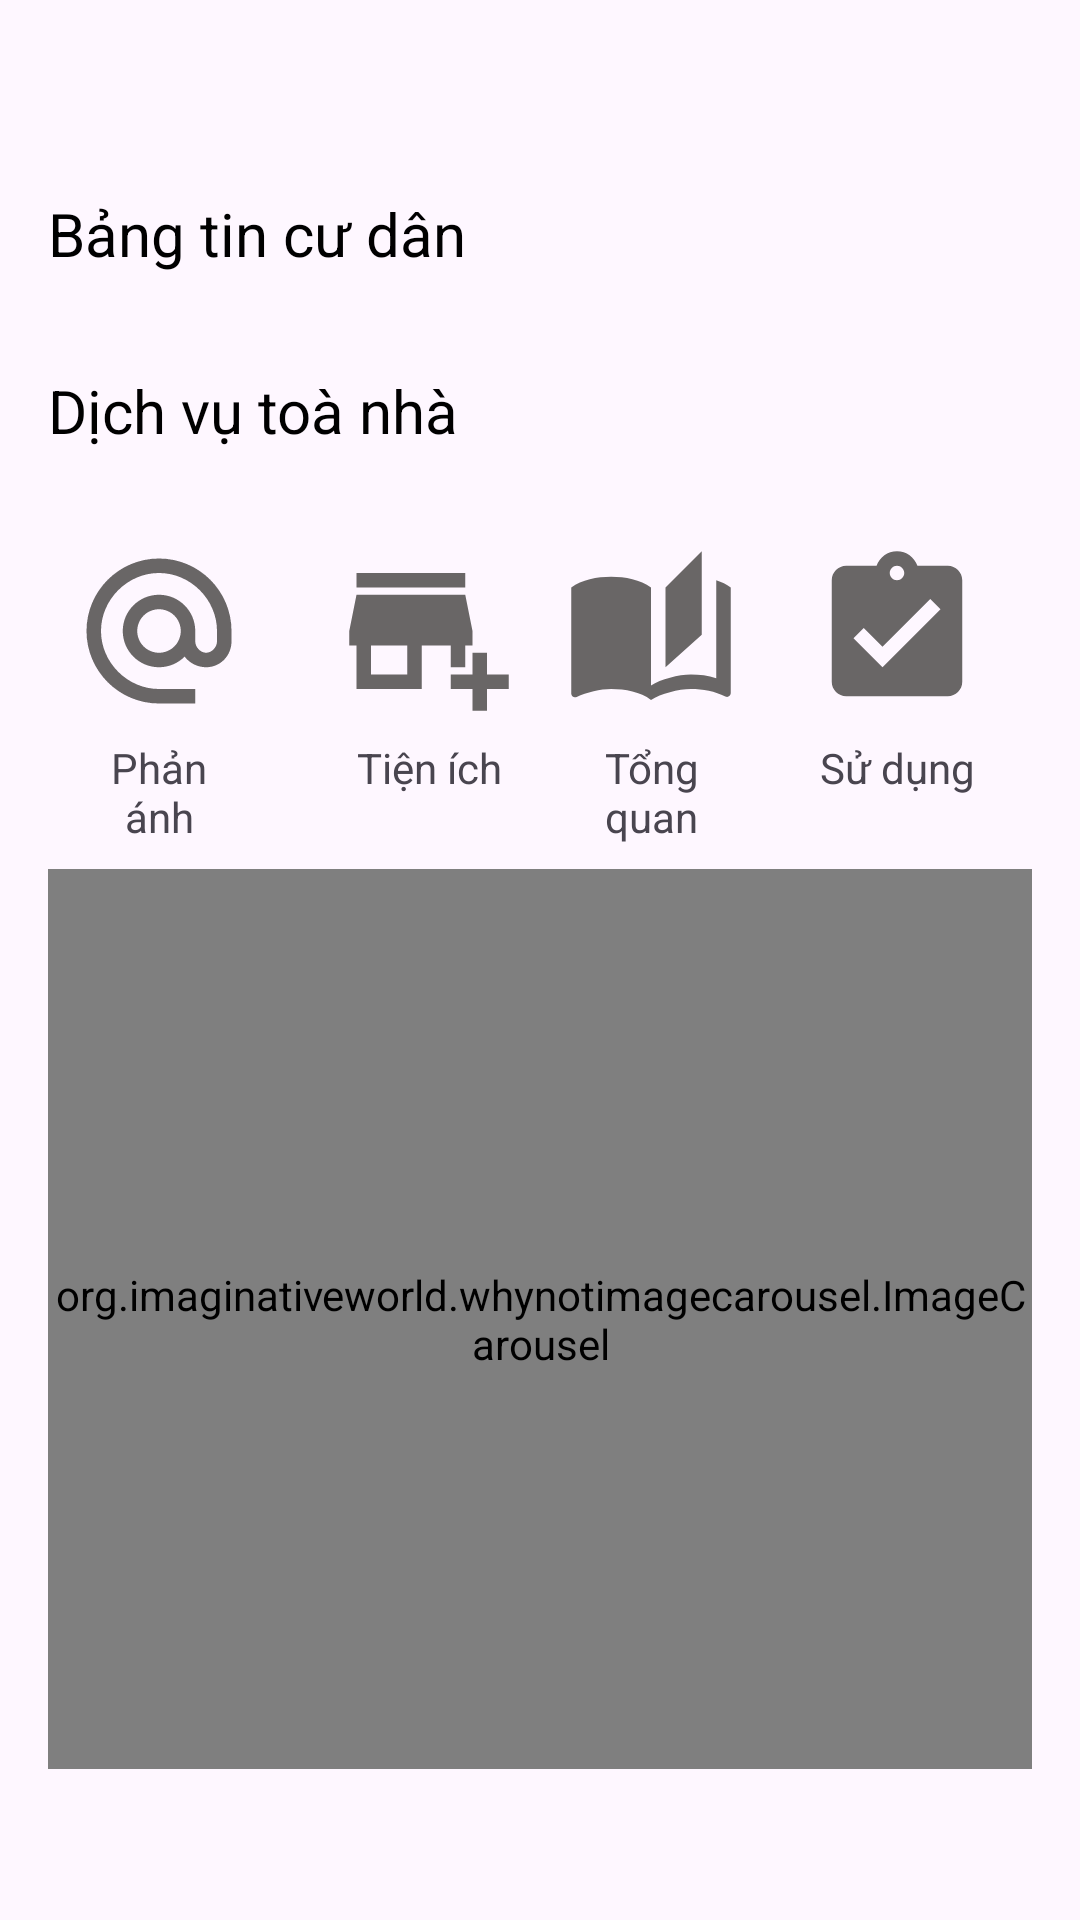

Icons on this 1080*1920 Android screen, each with the point to tap as point (x, y):
add business: point (429, 642)
alternate email: point (159, 631)
assignment turned in: point (897, 624)
auto stories: point (651, 625)
